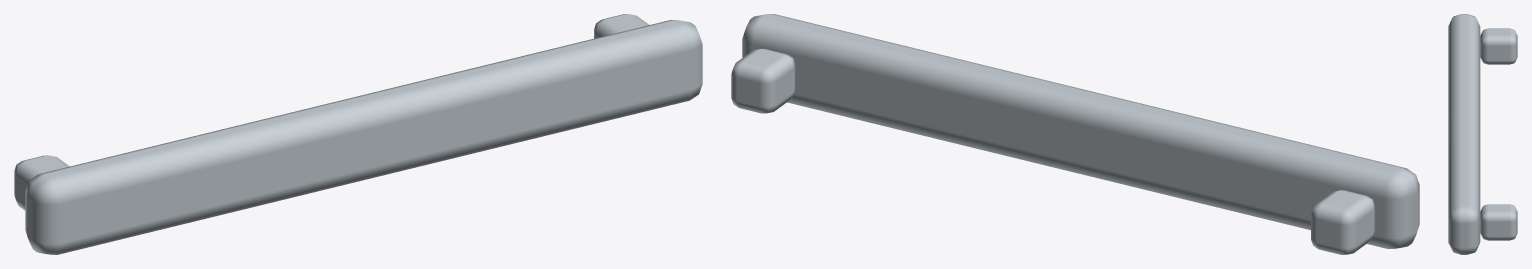
The model's file is SM_BarHandle_18.glb.
The picture shows the model from 3 angles, left to right: view 1: azimuth 30°, elevation 25°; view 2: azimuth 150°, elevation 25°; view 3: azimuth 270°, elevation 25°; orthographic projection. The views are drawn at different scales.
Visible parts, largest first — view 1: SM_BarHandle_18; view 2: SM_BarHandle_18; view 3: SM_BarHandle_18.
Boxes of the visible parts, box(x1,y1,x2,y2) form: SM_BarHandle_18: box(14, 14, 702, 254); SM_BarHandle_18: box(731, 14, 1419, 254); SM_BarHandle_18: box(1448, 14, 1517, 254).
Bounding box in the file's own units: 0.18 × 0.02 × 0.026.
1 material, 1 textured.
